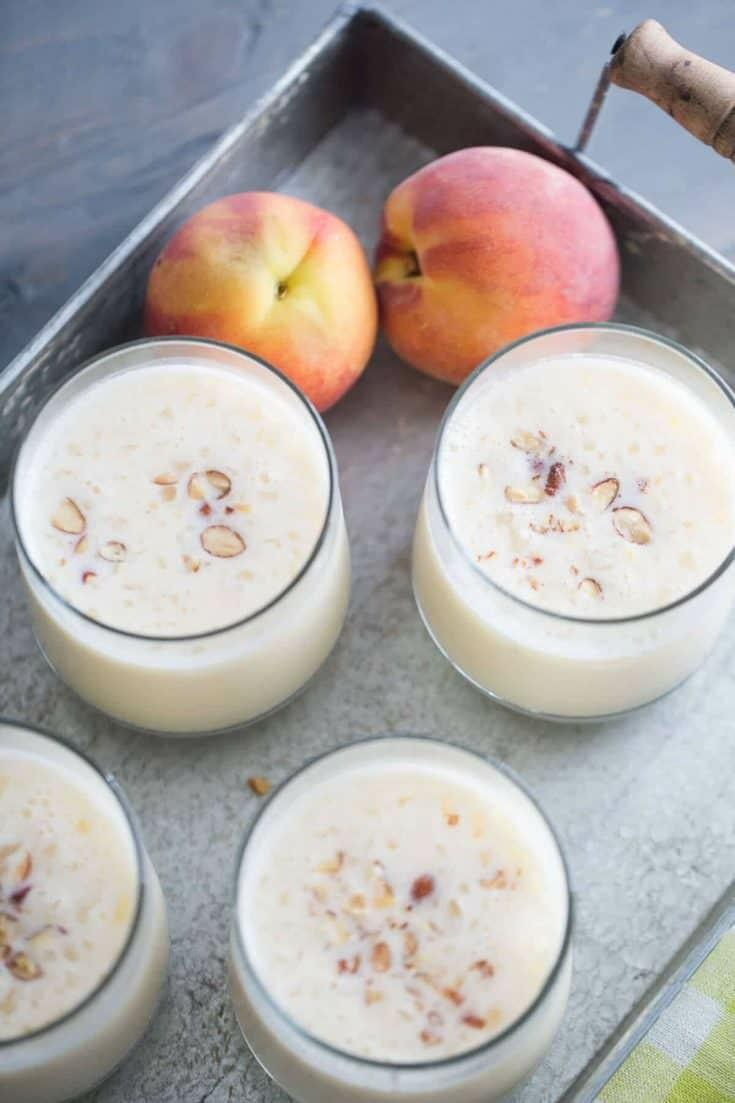Lassi: (16, 363, 352, 733), (411, 354, 735, 716), (236, 762, 570, 1103), (0, 748, 171, 1103)
